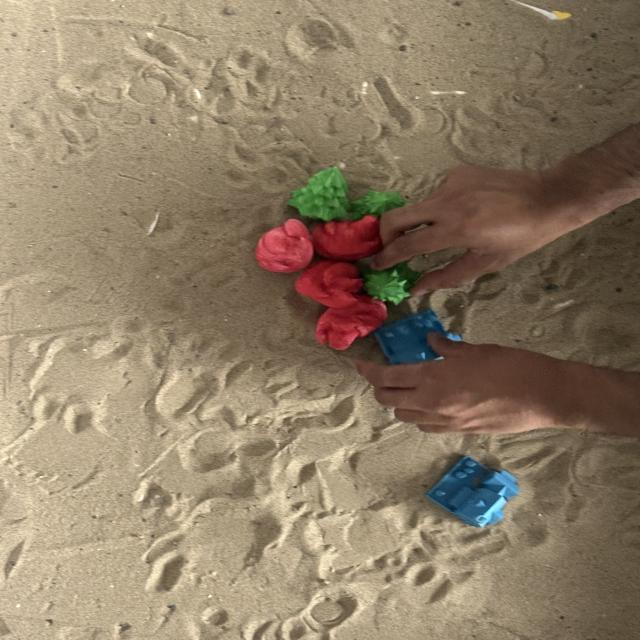fire: (315, 295, 388, 351), (294, 260, 362, 307), (254, 220, 314, 272), (315, 215, 380, 259)
house: (422, 453, 522, 529), (375, 308, 463, 368)
tree: (284, 163, 350, 220), (350, 189, 412, 219)
